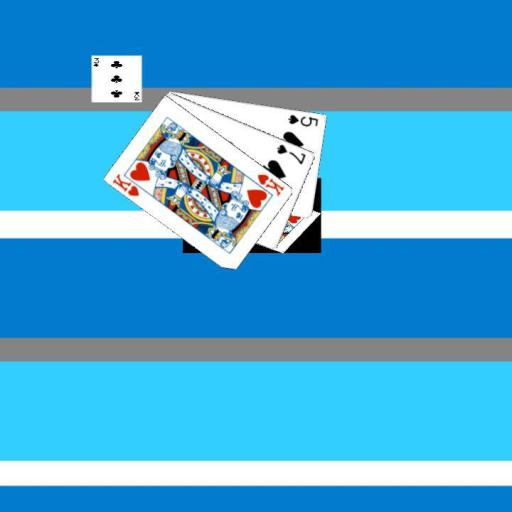5S: (285, 111, 320, 128)
7S: (274, 141, 308, 166)
KH: (254, 171, 286, 198), (109, 171, 141, 198)
